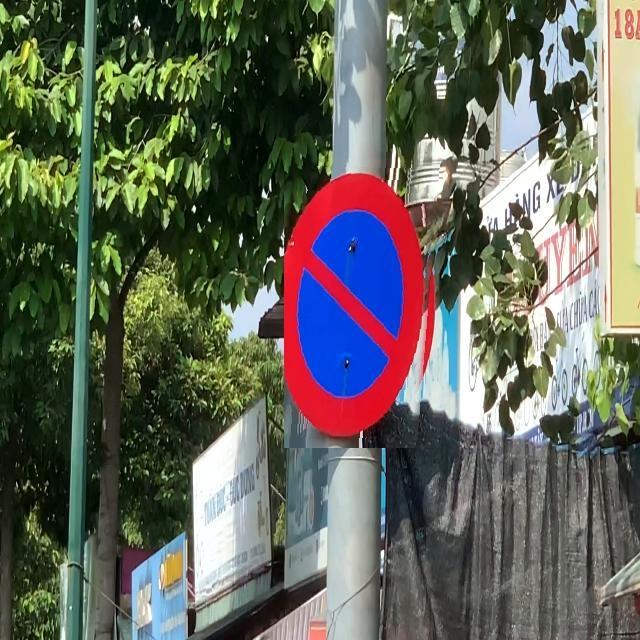bien_cam: (284, 159, 440, 448)
